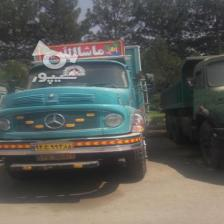plate: (28, 141, 72, 150)
